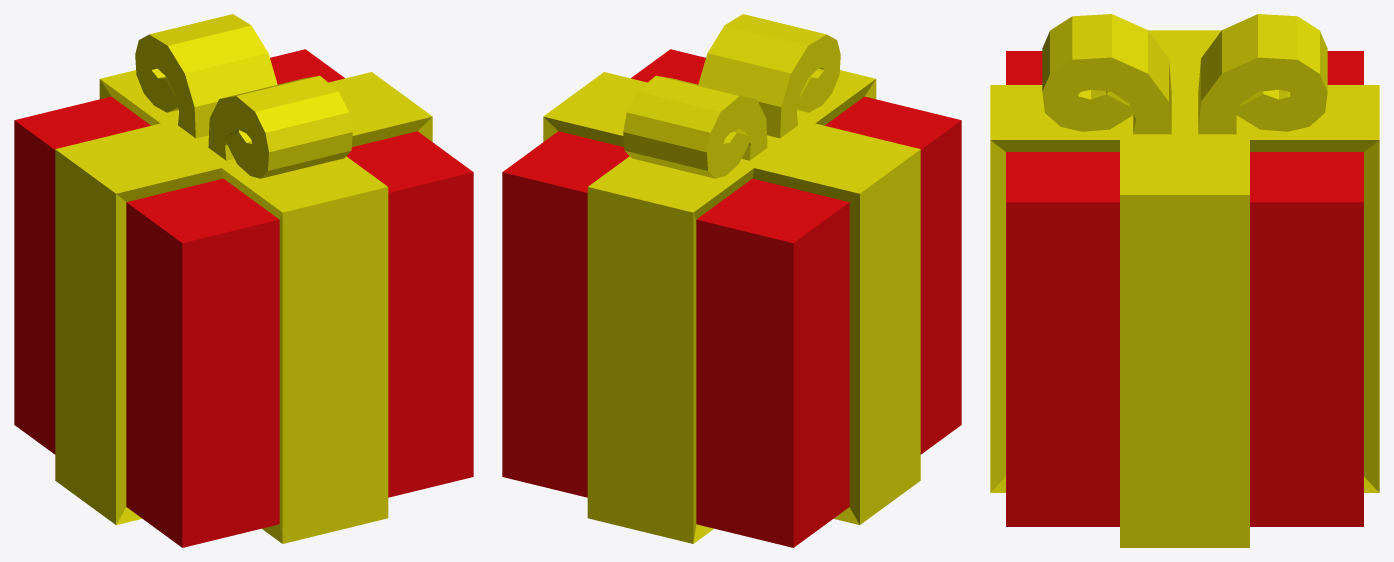
Rendered from podarok.fbx.
3 renders of one model, left to right at view 1: azimuth 30°, elevation 25°; view 2: azimuth 150°, elevation 25°; view 3: azimuth 270°, elevation 25°, orthographic. The views are drawn at different scales.
Parts seen in each view (by area): view 1: Cube.002; view 2: Cube.002; view 3: Cube.002.
Boxes of the visible parts, x1,y1,x2,y2 form: Cube.002: [14, 14, 473, 547]; Cube.002: [502, 14, 961, 547]; Cube.002: [990, 14, 1379, 547].
Bounding box in the file's own units: 81.06 × 98.7 × 81.06.
